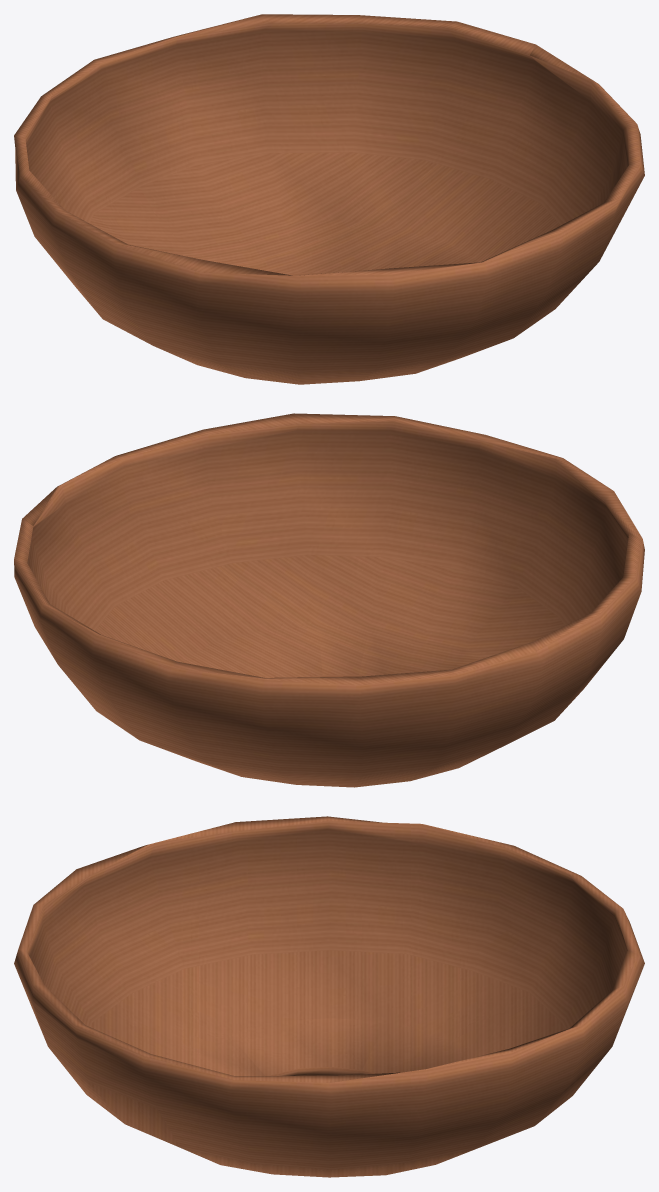
The model's file is basin.glb.
3 renders of one model, top to bottom at view 1: azimuth 30°, elevation 25°; view 2: azimuth 150°, elevation 25°; view 3: azimuth 270°, elevation 25°, orthographic.
Visible parts, largest first — view 1: basin; view 2: basin; view 3: basin.
Boxes of the visible parts, x1=… form: basin: x1=14, y1=14, x2=644, y2=384; basin: x1=14, y1=413, x2=644, y2=787; basin: x1=14, y1=816, x2=644, y2=1177.
Bounding box in the file's own units: 0.8444 × 0.2676 × 0.8469.
1 material, 1 textured.
